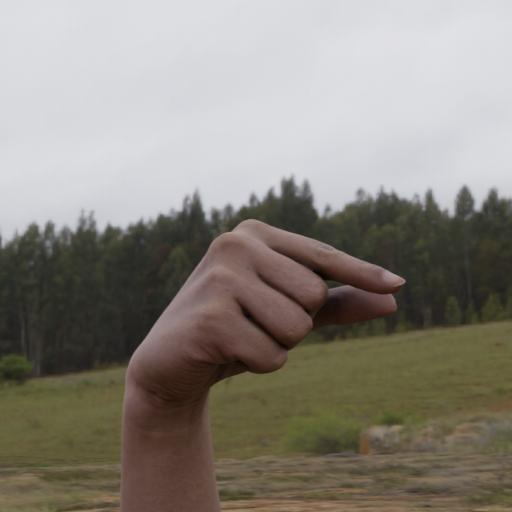G: (111, 201, 428, 410)
